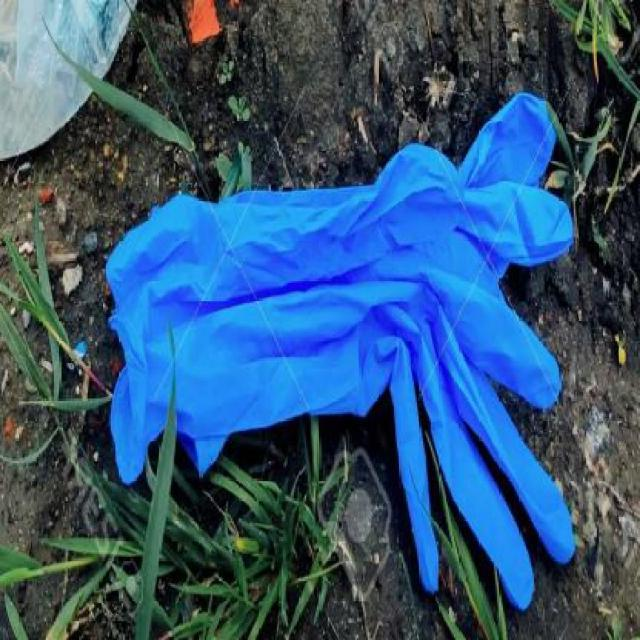gloved_hand: (106, 80, 579, 638)
